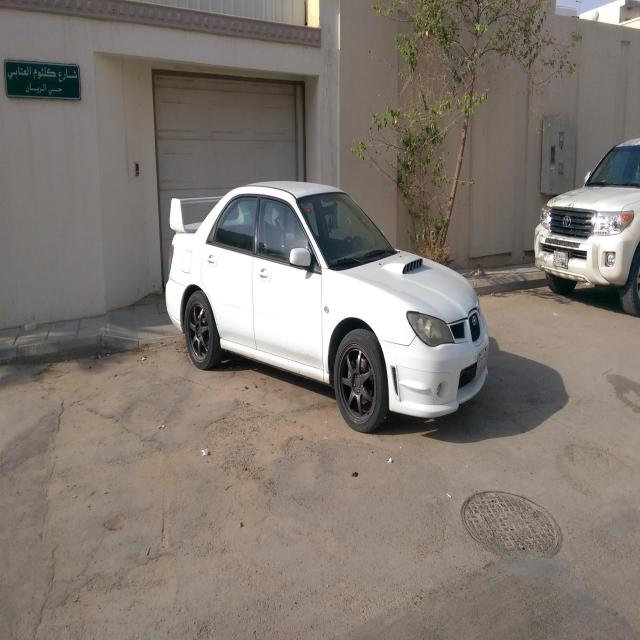license_plate: (476, 344, 488, 380), (553, 251, 568, 269)
